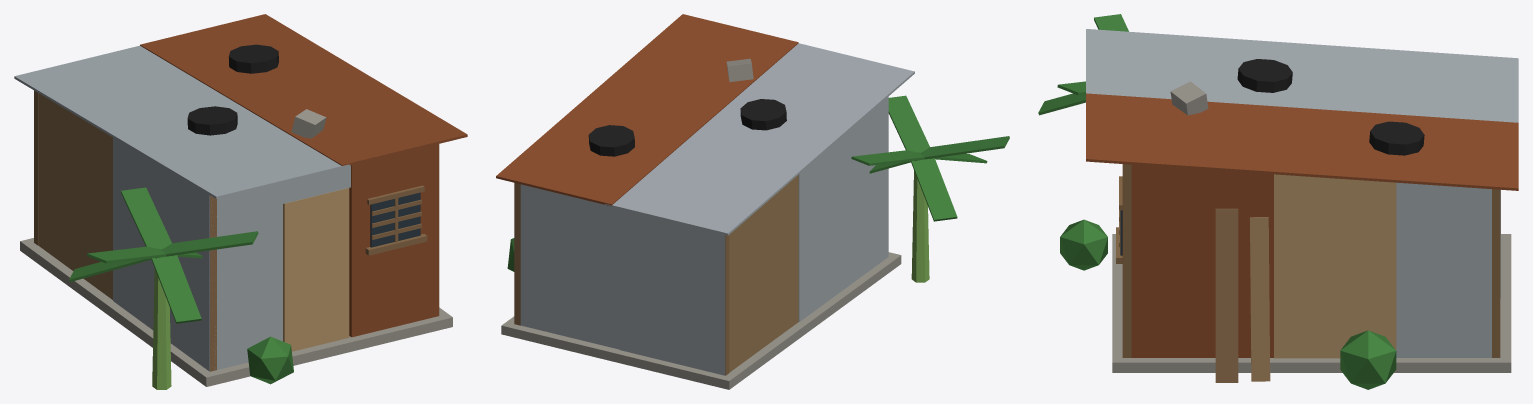
Rendered from BAY_I_TinShack_N.glb.
3 renders of one model, left to right at view 1: azimuth 30°, elevation 25°; view 2: azimuth 150°, elevation 25°; view 3: azimuth 270°, elevation 25°, orthographic. The views are drawn at different scales.
Visible parts, largest first — view 1: BAY_I_TinShack_N; view 2: BAY_I_TinShack_N; view 3: BAY_I_TinShack_N.
Part boxes in pixels (x1,y1,x2,y2): BAY_I_TinShack_N: (14, 14, 467, 389); BAY_I_TinShack_N: (496, 14, 1009, 389); BAY_I_TinShack_N: (1038, 14, 1518, 389).
Bounding box in the file's own units: 5.5 × 2.68 × 5.11.
Materials: 1 (1 with a texture image).
